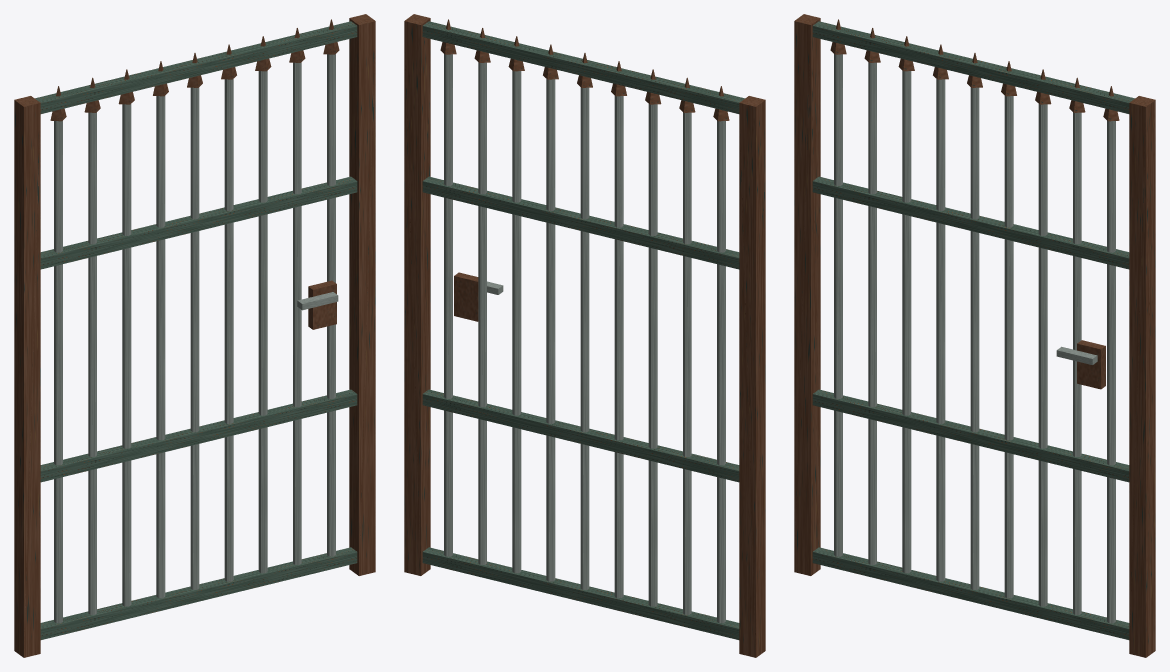
The model's file is IronGate.glb.
3 renders of one model, left to right at view 1: azimuth 30°, elevation 25°; view 2: azimuth 150°, elevation 25°; view 3: azimuth 330°, elevation 25°, orthographic.
Parts seen in each view (by area): view 1: IronGate; view 2: IronGate; view 3: IronGate.
Part boxes in pixels (bbox=[...]): IronGate: bbox=[14, 14, 375, 657]; IronGate: bbox=[404, 14, 765, 657]; IronGate: bbox=[794, 14, 1155, 657].
Bounding box in the file's own units: 1.47 × 2.23 × 0.1275.
Materials: 3 (3 with a texture image).
